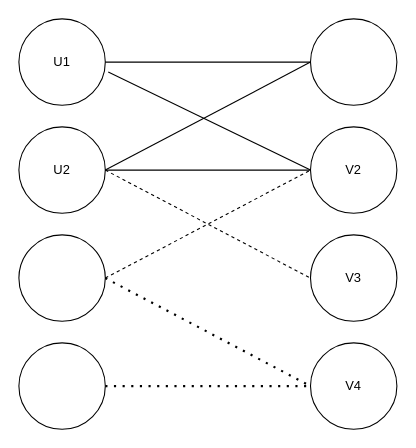
Image size: 416x448. Some labels were removed from this diagram. The box of each missing label's shape, as (x1, y1, x2, y2) in pixels:
U3: (18, 234, 105, 321)
U4: (18, 342, 105, 429)
V1: (309, 18, 397, 105)
